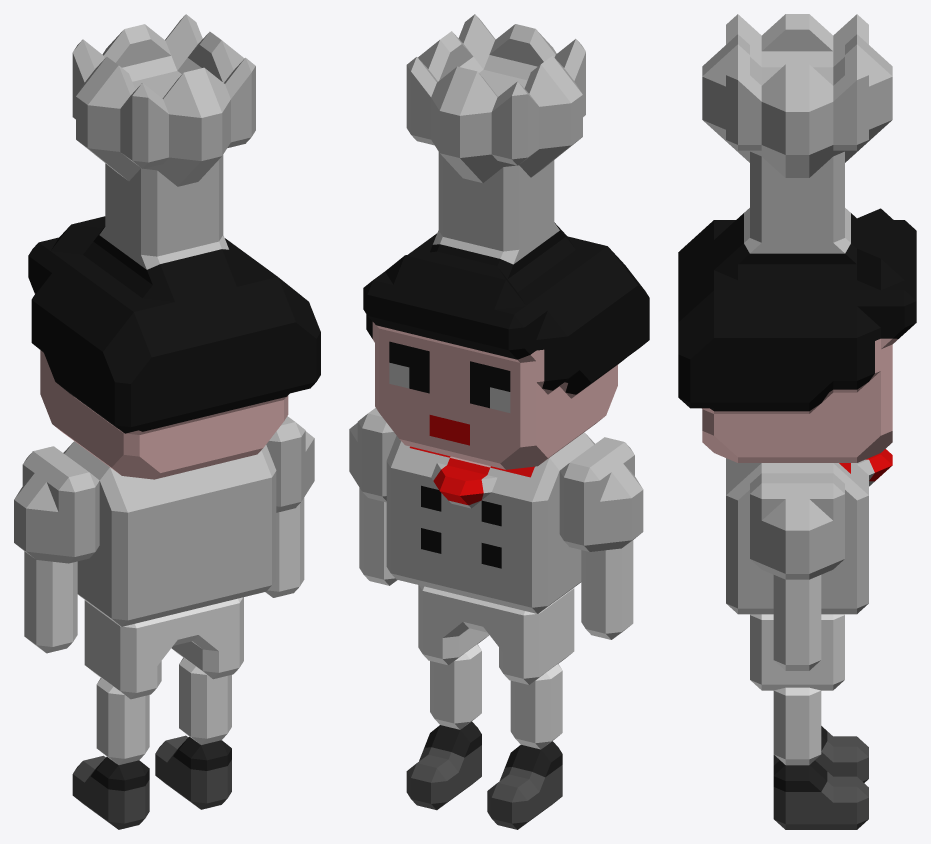
The model's file is itmyChef0615_test1.fbx.
3 views of the same model, side by side, from view 1: azimuth 30°, elevation 25°; view 2: azimuth 150°, elevation 25°; view 3: azimuth 270°, elevation 25° (orthographic). The views are drawn at different scales.
Parts seen in each view (by area): view 1: itmychef0615, itmychef0615.012, itmychef0615.007, itmychef0615.014, itmychef0615.002, itmychef0615.001, itmychef0615.013, itmychef0615.009, itmychef0615.006, itmychef0615.005, itmychef0615.011, itmychef0615.008 (+3 smaller); view 2: itmychef0615, itmychef0615.012, itmychef0615.007, itmychef0615.014, itmychef0615.002, itmychef0615.001, itmychef0615.013, itmychef0615.009, itmychef0615.006, itmychef0615.005, itmychef0615.011, itmychef0615.008 (+3 smaller); view 3: itmychef0615, itmychef0615.012, itmychef0615.013, itmychef0615.001, itmychef0615.007, itmychef0615.005, itmychef0615.008, itmychef0615.010, itmychef0615.002, itmychef0615.003.
Part boxes in pixels (left/top/right/bottom): itmychef0615: left=28, top=14, right=320, bottom=479; itmychef0615.012: left=63, top=441, right=276, bottom=626; itmychef0615.007: left=84, top=597, right=243, bottom=699; itmychef0615.014: left=14, top=446, right=99, bottom=563; itmychef0615.002: left=72, top=755, right=149, bottom=829; itmychef0615.001: left=155, top=735, right=231, bottom=809; itmychef0615.013: left=266, top=416, right=314, bottom=512; itmychef0615.009: left=24, top=592, right=77, bottom=653; itmychef0615.006: left=96, top=678, right=149, bottom=737; itmychef0615.005: left=179, top=657, right=231, bottom=716; itmychef0615.011: left=24, top=551, right=77, bottom=604; itmychef0615.008: left=265, top=538, right=304, bottom=597; itmychef0615: left=363, top=14, right=649, bottom=469; itmychef0615.012: left=386, top=432, right=594, bottom=613; itmychef0615.007: left=418, top=585, right=574, bottom=684; itmychef0615.014: left=559, top=437, right=643, bottom=551; itmychef0615.002: left=487, top=741, right=562, bottom=829; itmychef0615.001: left=406, top=721, right=481, bottom=810; itmychef0615.013: left=349, top=408, right=396, bottom=502; itmychef0615.009: left=581, top=581, right=633, bottom=639; itmychef0615.006: left=510, top=664, right=562, bottom=722; itmychef0615.005: left=430, top=644, right=481, bottom=703; itmychef0615.011: left=581, top=540, right=633, bottom=591; itmychef0615.008: left=359, top=526, right=397, bottom=585; itmychef0615: left=678, top=14, right=916, bottom=462; itmychef0615.012: left=726, top=449, right=892, bottom=614; itmychef0615.013: left=750, top=473, right=844, bottom=579; itmychef0615.001: left=773, top=760, right=868, bottom=829; itmychef0615.007: left=750, top=614, right=844, bottom=690; itmychef0615.005: left=773, top=687, right=821, bottom=738; itmychef0615.008: left=773, top=617, right=821, bottom=670; itmychef0615.010: left=773, top=575, right=821, bottom=622; itmychef0615.002: left=773, top=726, right=868, bottom=782; itmychef0615.003: left=773, top=733, right=821, bottom=765.
Size of the model in its own units: 1.4 by 3.55 by 1.
